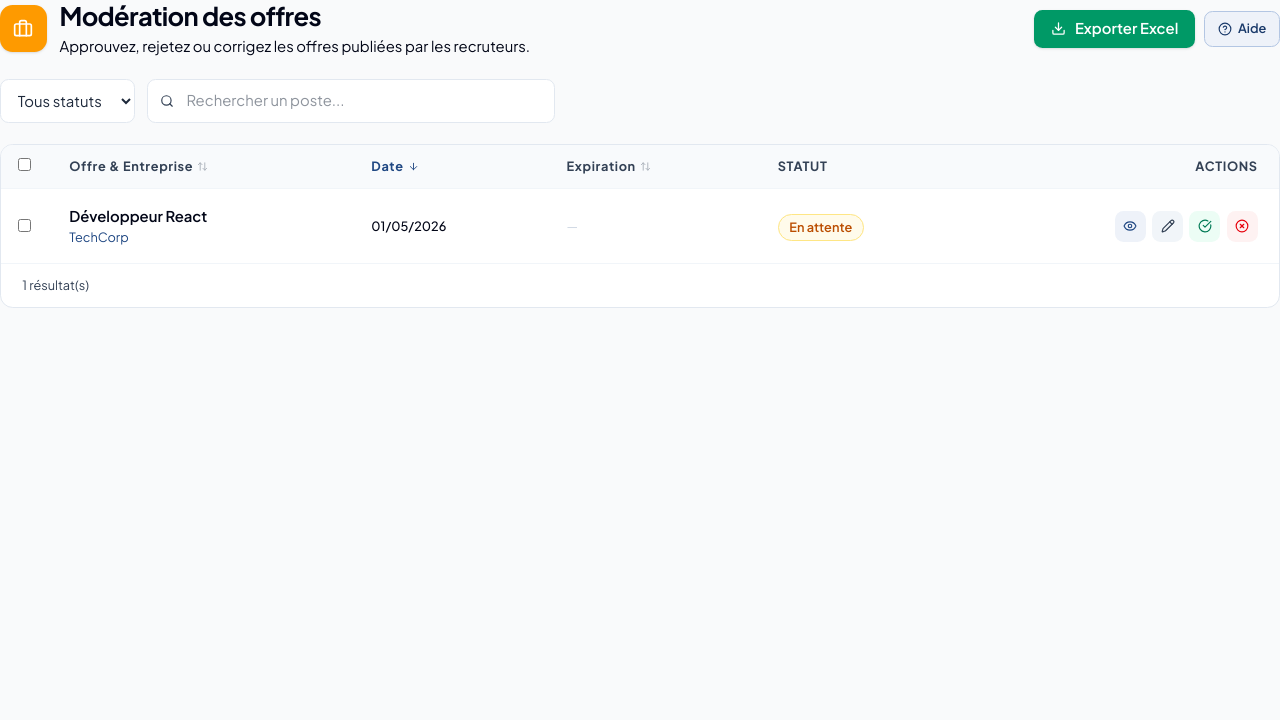
Test: 💼 UI & Logique - Composant <AdminOffres /> › 🎓 Fiche d'une offre : formation requise › 🟢 Montre la phrase lue par le candidat, avec les trois masters regroupés
The width and height of the screenshot is (1280, 720).
Click the button titled "Voir" at (1130, 226), box [1115, 210, 1146, 242]
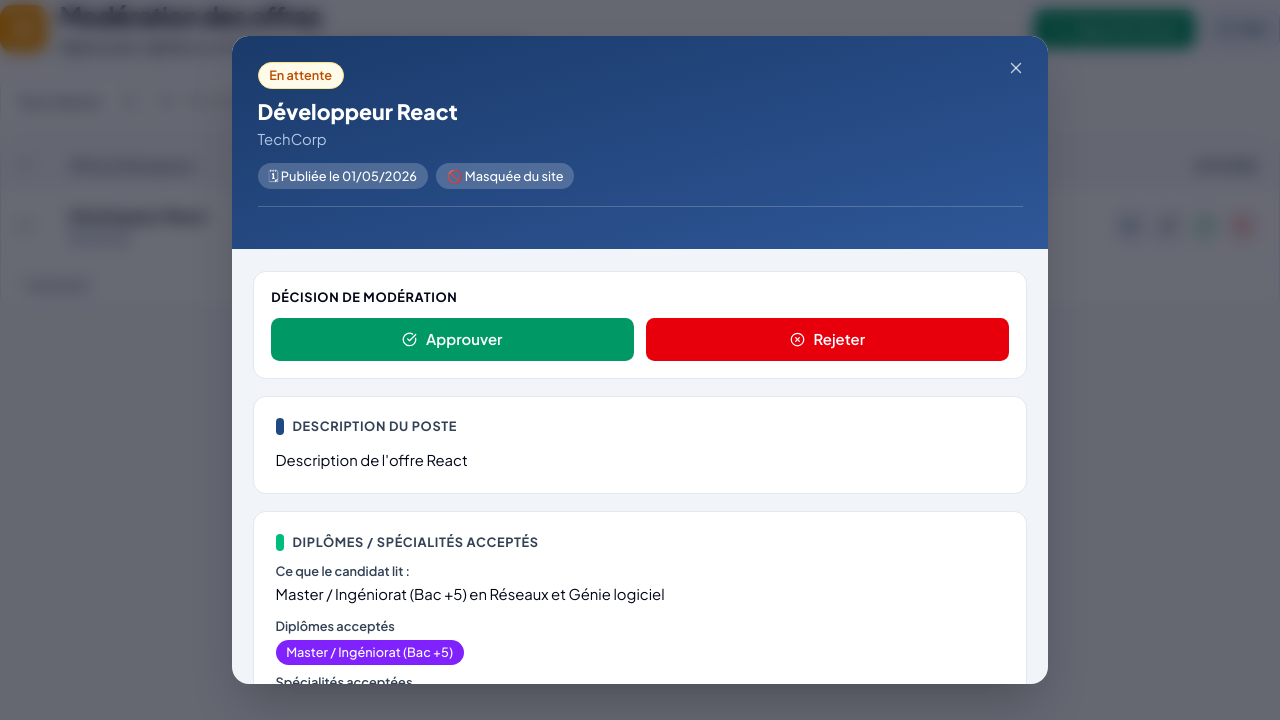
Expected: the text "Master / Ingéniorat (Bac +5) en Réseaux et Génie logiciel" is shown, [276, 586, 665, 604]
Expected: the text "Master / Ingéniorat (Bac +5)" is shown, [276, 640, 464, 665]
